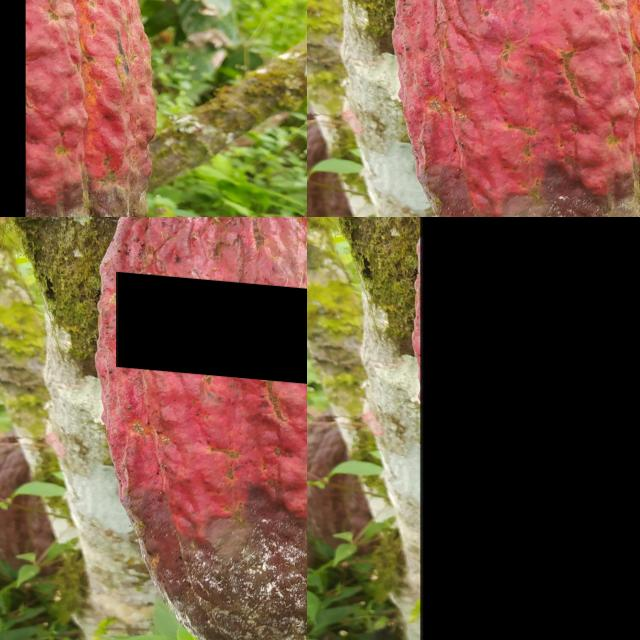Fitoftora: (422, 0, 520, 109)
Monilia: (116, 268, 307, 381)
Sana: (420, 217, 640, 640)
